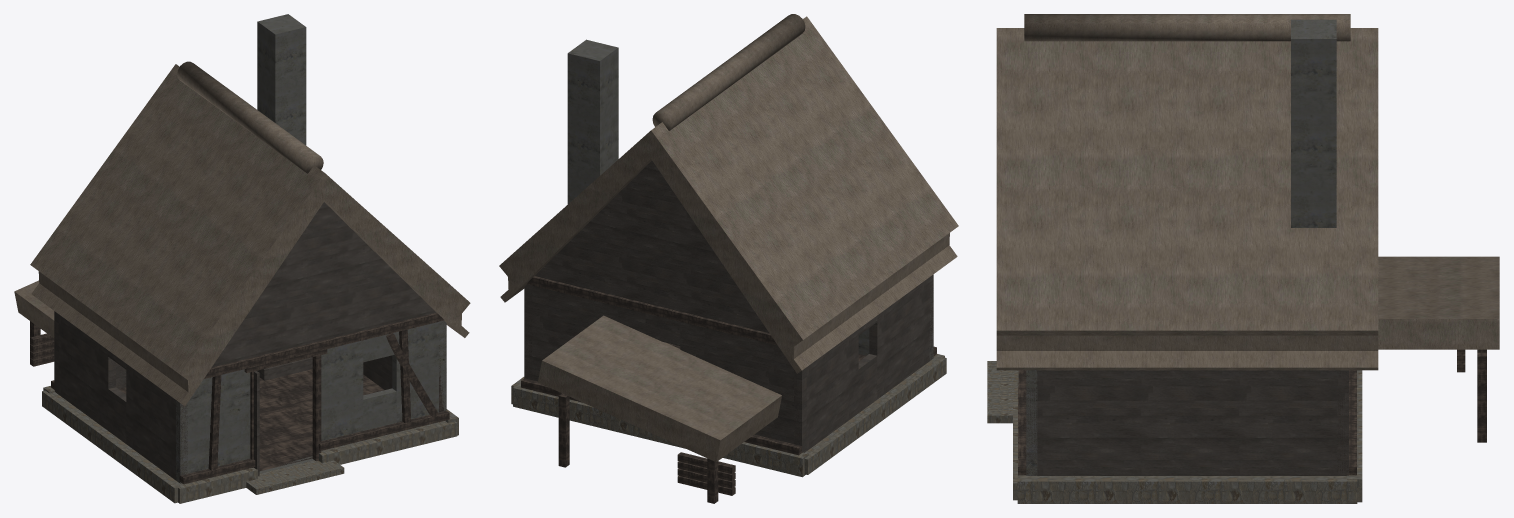
File: prop_cottage_poor_d.glb
3 renders of one model, left to right at view 1: azimuth 30°, elevation 25°; view 2: azimuth 150°, elevation 25°; view 3: azimuth 270°, elevation 25°, orthographic. The views are drawn at different scales.
Visible parts, largest first — view 1: prop_cottage_poor_d; view 2: prop_cottage_poor_d; view 3: prop_cottage_poor_d.
Part boxes in pixels (<box>): prop_cottage_poor_d: <box>14,14,470,503</box>; prop_cottage_poor_d: <box>499,14,958,503</box>; prop_cottage_poor_d: <box>987,14,1499,503</box>.
Size of the model in its own units: 6.13 by 6.87 by 7.3.
Materials: 5 (5 with a texture image).
